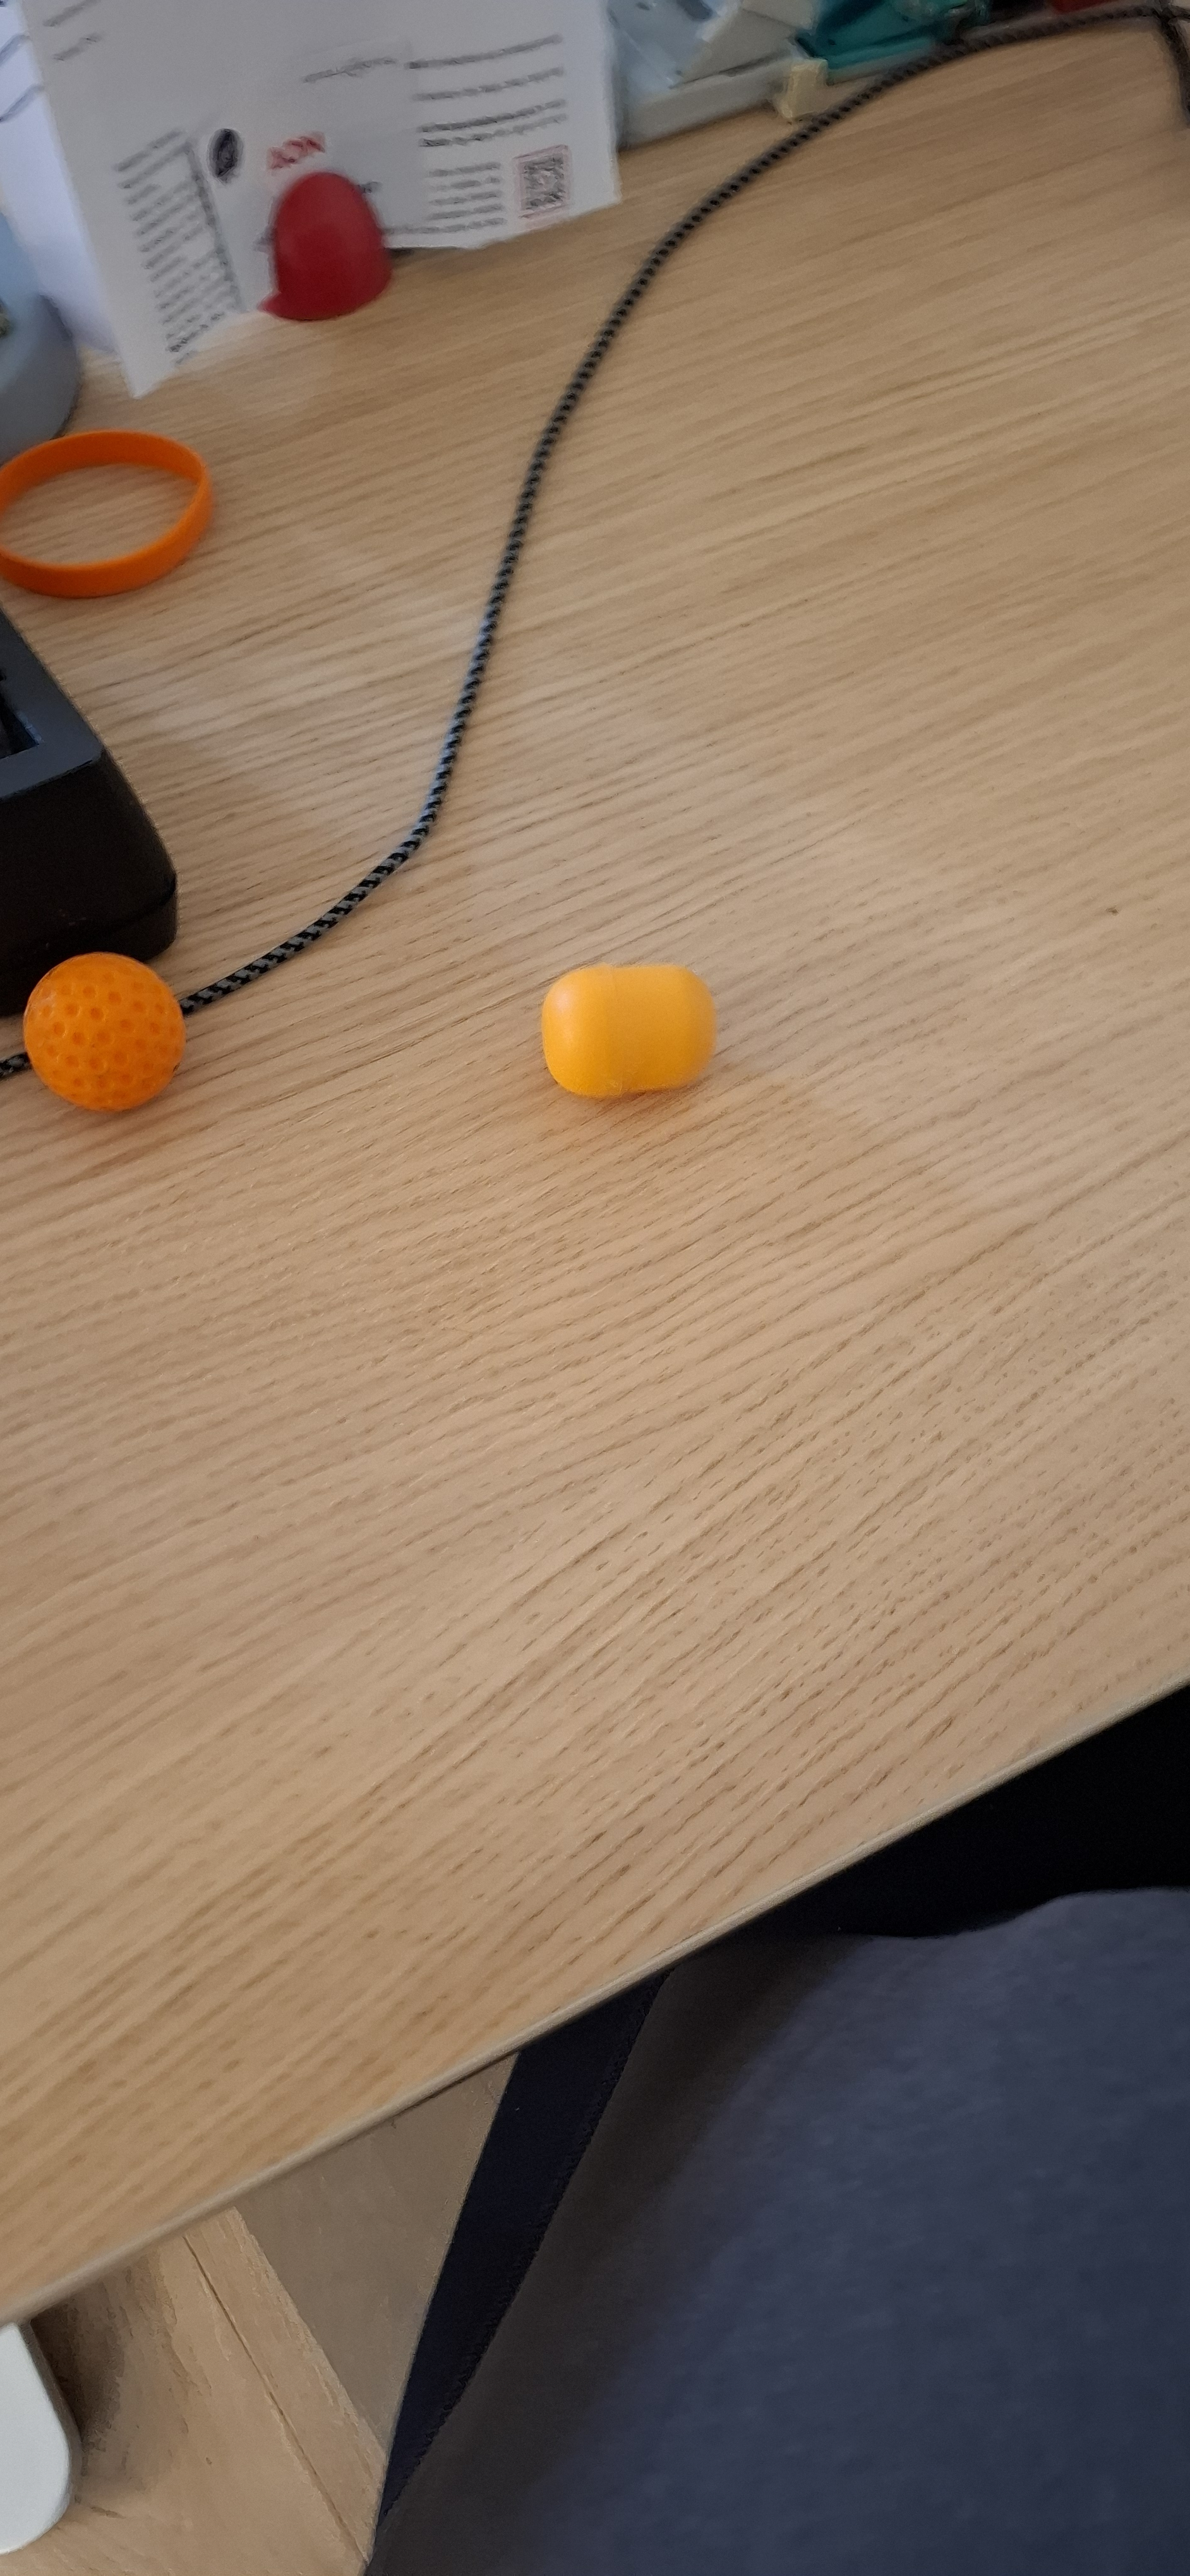ball: (439, 2178, 514, 2527)
